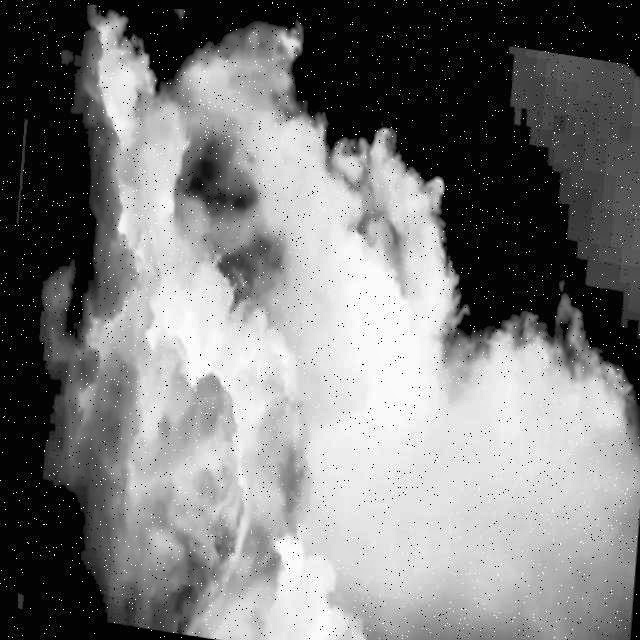Smoke: (39, 2, 640, 640)
